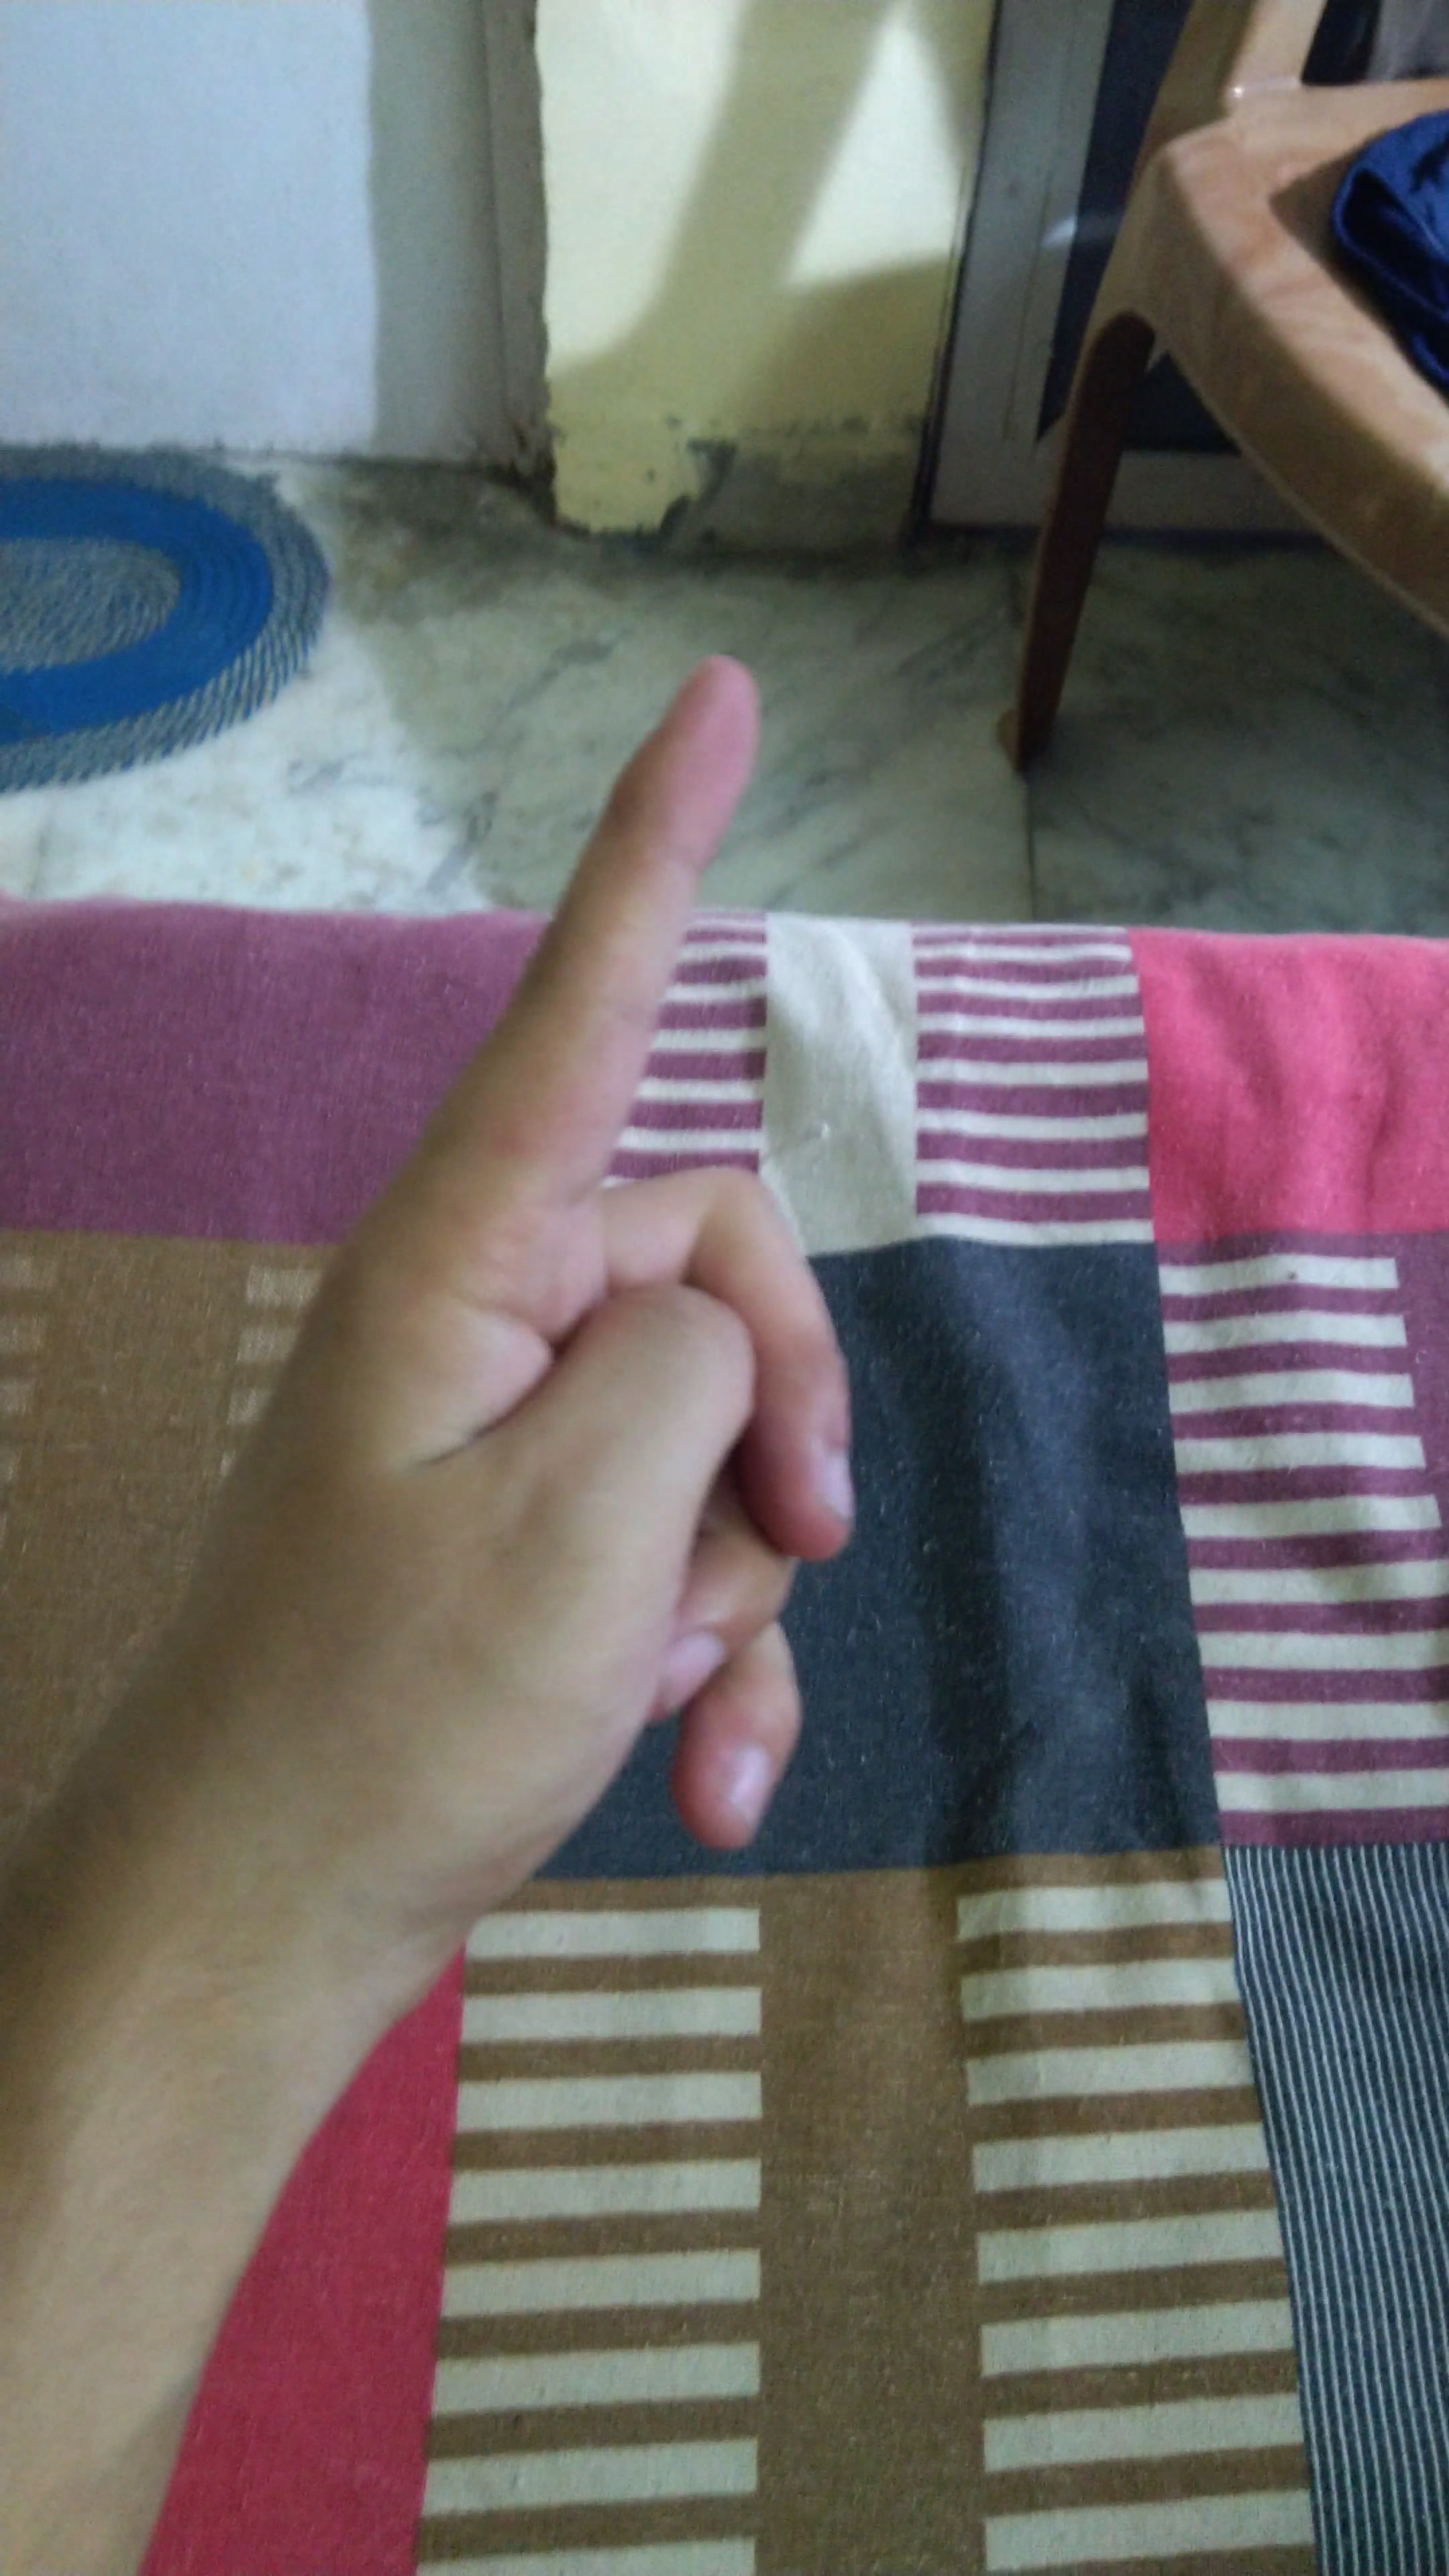hand: (156, 609, 955, 2015)
